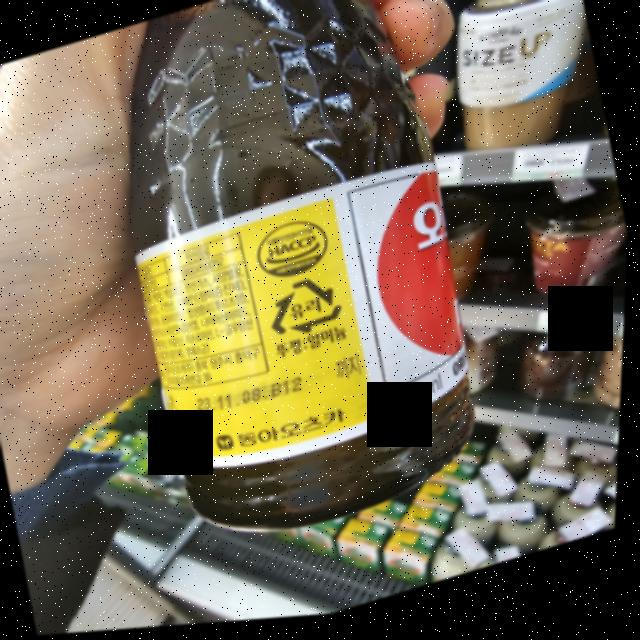Glass: (260, 268, 357, 350)
